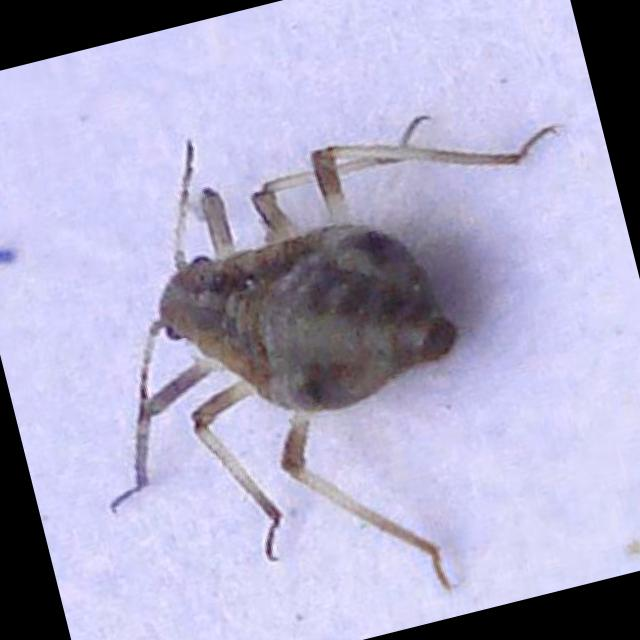aphid: (30, 70, 640, 609)
